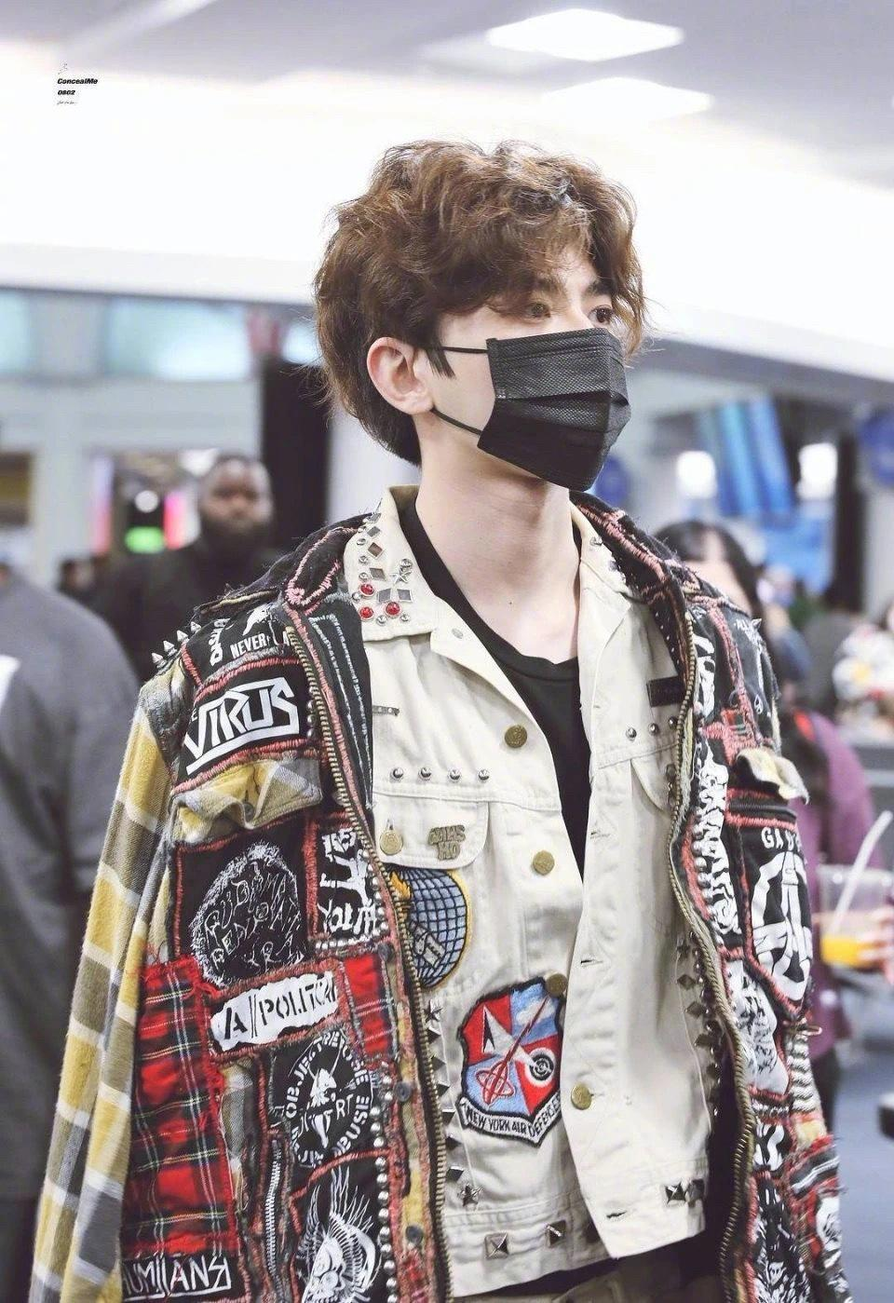OK: (466, 265, 631, 489)
